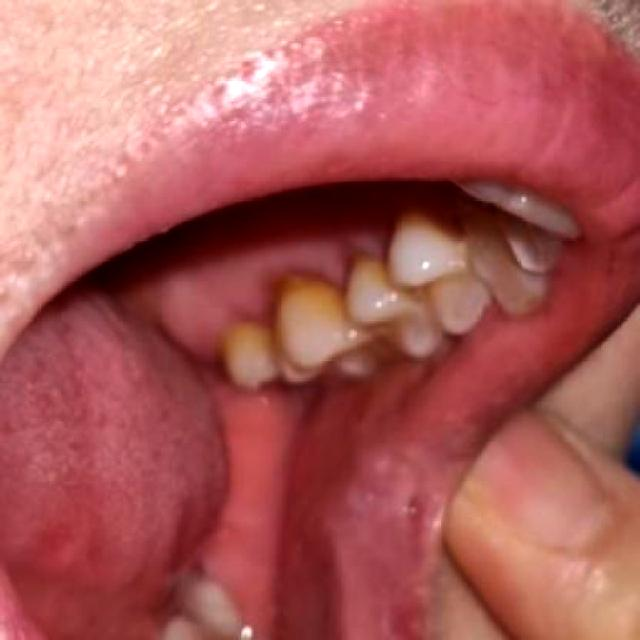Plaque: (187, 189, 451, 364)
